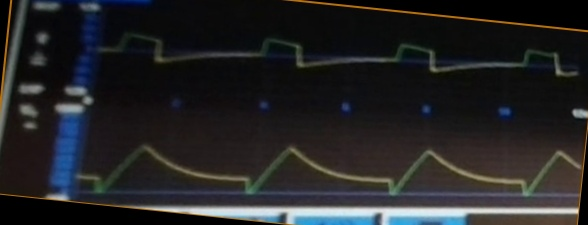Flow: (102, 31, 577, 92)
Leakage Volume: (80, 137, 575, 201)
